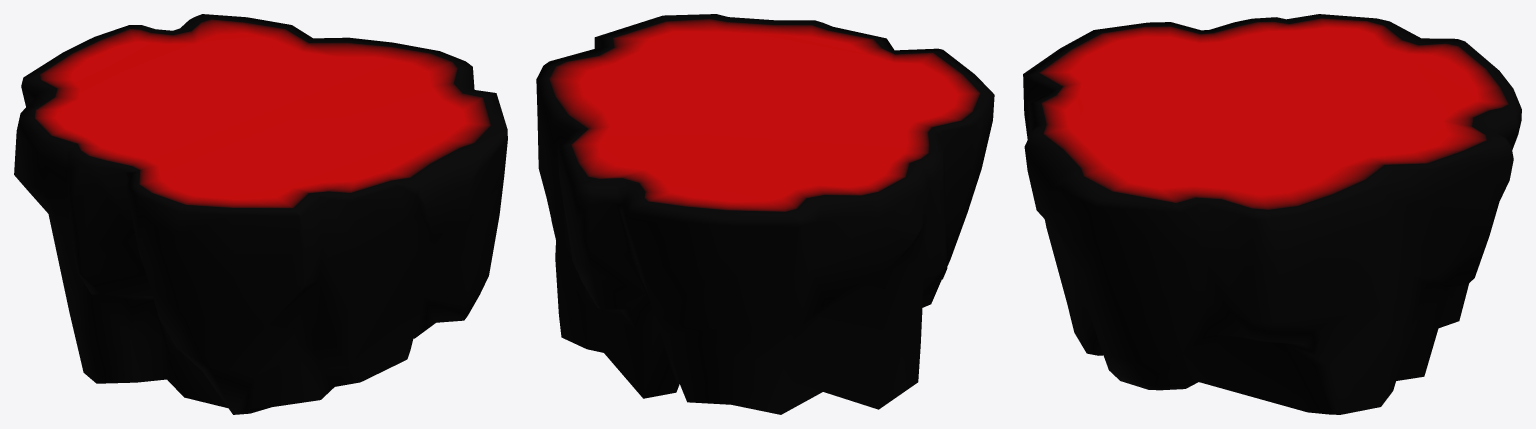
File: Shitou_hill_15.fbx
3 views of the same model, side by side, from view 1: azimuth 30°, elevation 25°; view 2: azimuth 150°, elevation 25°; view 3: azimuth 270°, elevation 25° (orthographic). The views are drawn at different scales.
Visible parts, largest first — view 1: Shitou_hill_15_LOD0; view 2: Shitou_hill_15_LOD0; view 3: Shitou_hill_15_LOD0.
Part boxes in pixels (<box>): Shitou_hill_15_LOD0: <box>14,14,507,414</box>; Shitou_hill_15_LOD0: <box>536,14,994,414</box>; Shitou_hill_15_LOD0: <box>1023,14,1521,414</box>.
Size of the model in its own units: 696 by 396 by 704.
